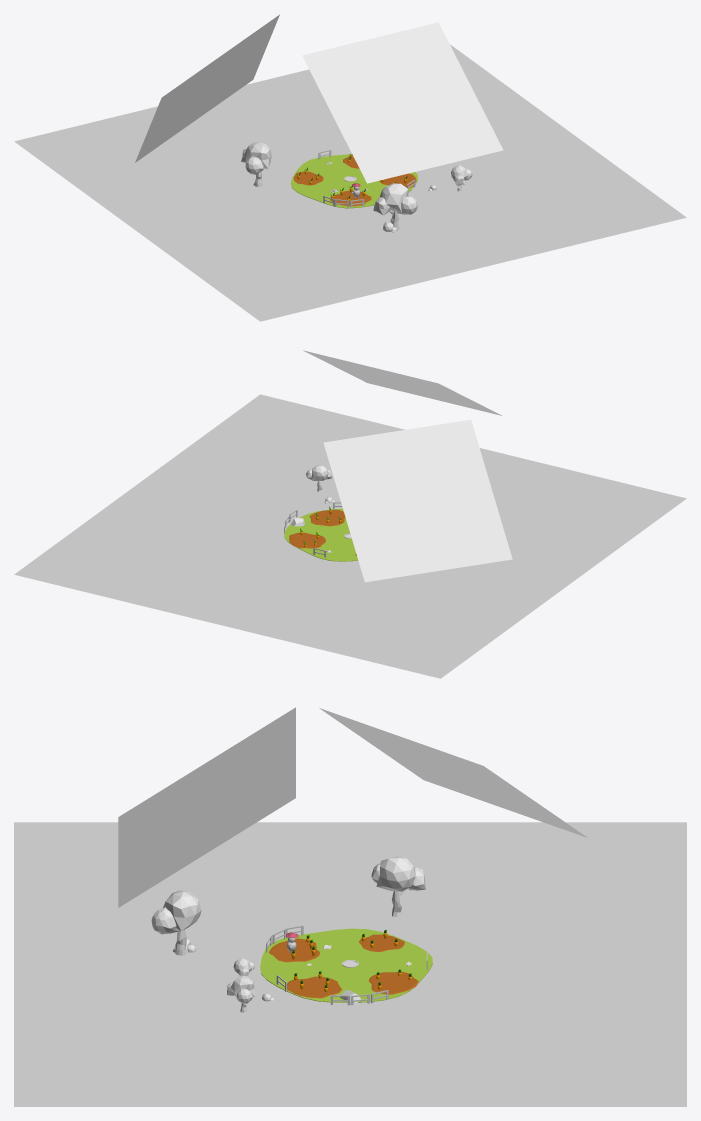
File: Blocagem-Cenario.fbx
3 views of the same model, one above another, from view 1: azimuth 30°, elevation 25°; view 2: azimuth 150°, elevation 25°; view 3: azimuth 270°, elevation 25° (orthographic). The views are drawn at different scales.
Parts seen in each view (by area): view 1: Plane.002, Plane, Plane.001, Terreno_Base, Arvere, Arvere.002; view 2: Plane.002, Plane.001, Plane, Terreno_Base; view 3: Plane.002, Plane, Terreno_Base, Plane.001, Arvere, Arvere.002, CropTerrain.001, CropTerrain.002, CropTerrain, Arvere.001.
Part boxes in pixels (x1,y1,x2,y2): Plane.002: [14, 44, 686, 321]; Plane: [302, 22, 503, 183]; Plane.001: [135, 14, 279, 162]; Terreno_Base: [291, 154, 417, 208]; Arvere: [373, 183, 417, 230]; Arvere.002: [241, 142, 271, 186]; Plane.002: [14, 394, 686, 678]; Plane.001: [323, 419, 512, 582]; Plane: [303, 350, 502, 415]; Terreno_Base: [284, 508, 358, 561]; Plane.002: [14, 822, 686, 1106]; Plane: [118, 707, 295, 907]; Terreno_Base: [260, 928, 432, 1002]; Plane.001: [319, 708, 587, 837]; Arvere: [151, 890, 201, 955]; Arvere.002: [371, 856, 425, 917]; CropTerrain.001: [284, 976, 341, 998]; CropTerrain.002: [369, 971, 418, 994]; CropTerrain: [269, 938, 319, 962]; Arvere.001: [227, 976, 254, 1012].
Bounding box in the file's own units: 7990 × 2881 × 7990.
